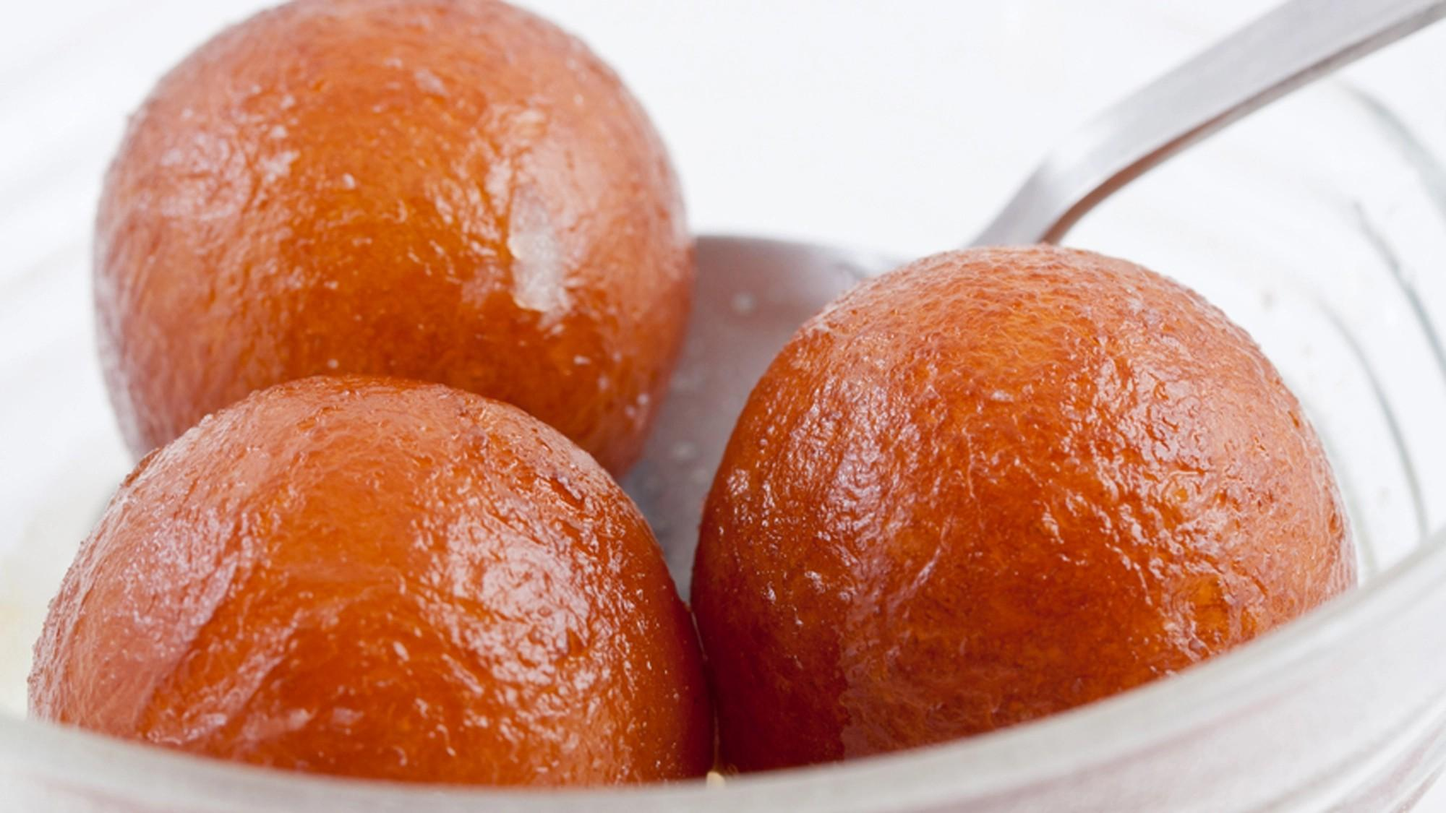GulabJamun: (690, 246, 1349, 775), (88, 0, 688, 482), (35, 378, 710, 790)
